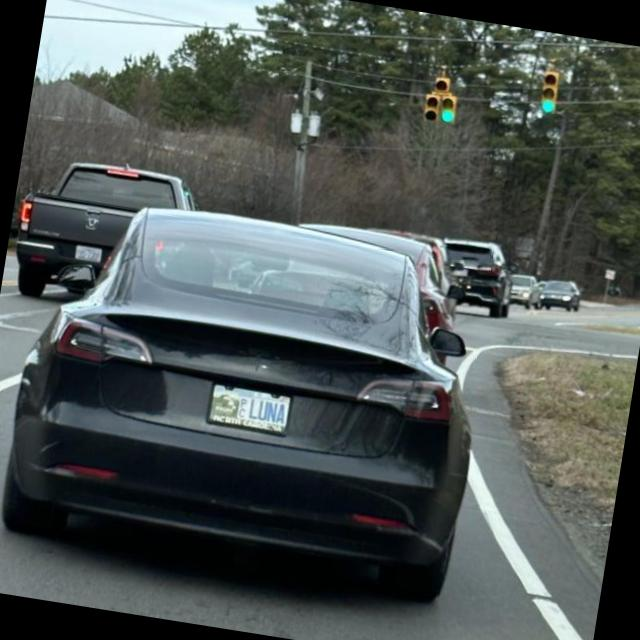LicensePlate: (205, 381, 294, 437)
